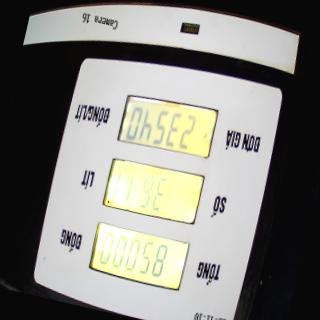screen: (82, 83, 222, 300)
